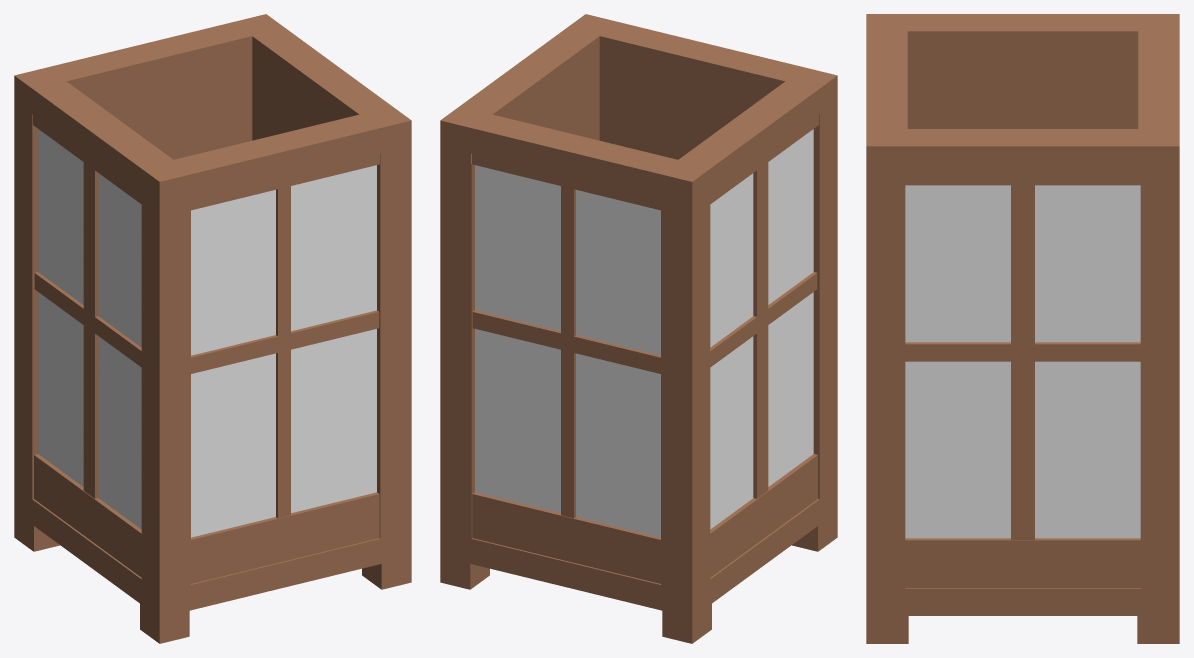
The model's file is Lantern_4.fbx.
The picture shows the model from 3 angles, left to right: view 1: azimuth 30°, elevation 25°; view 2: azimuth 150°, elevation 25°; view 3: azimuth 270°, elevation 25°; orthographic projection. The views are drawn at different scales.
Parts seen in each view (by area): view 1: Lantern_4; view 2: Lantern_4; view 3: Lantern_4.
Boxes of the visible parts, bbox=[...] form: Lantern_4: bbox=[14, 14, 411, 643]; Lantern_4: bbox=[440, 14, 837, 643]; Lantern_4: bbox=[866, 14, 1179, 643].
Bounding box in the file's own units: 38.14 × 66.83 × 38.14.
